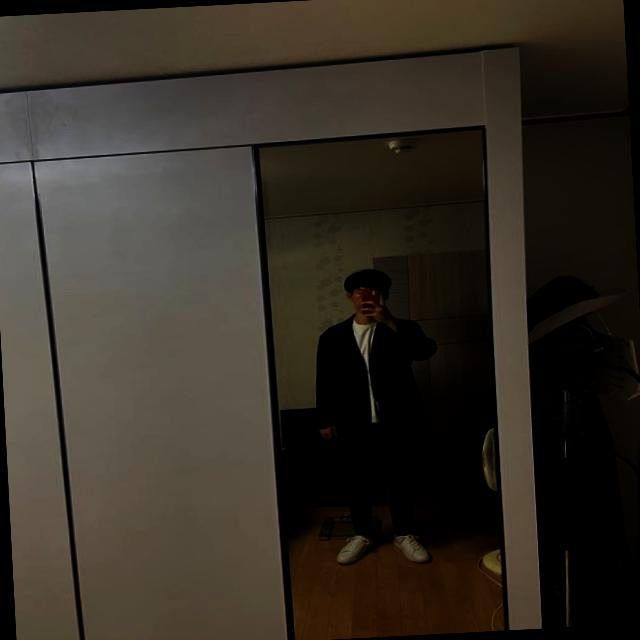coat: (310, 308, 452, 494)
